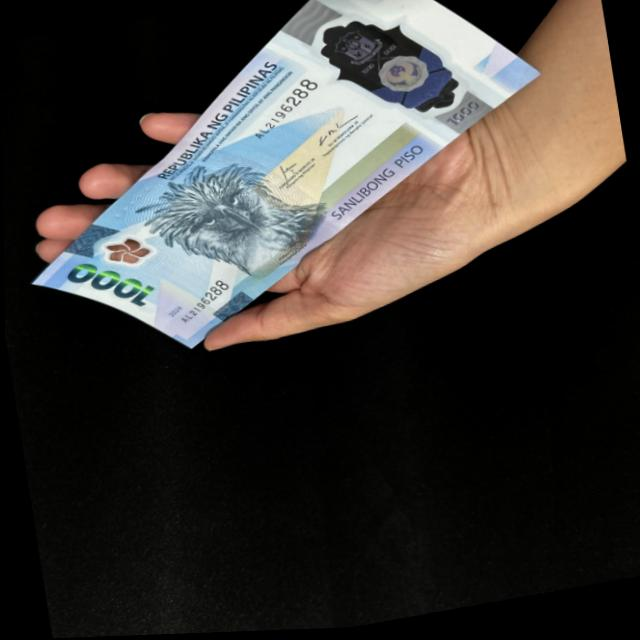clear_window: (305, 0, 470, 136)
eagle: (131, 148, 315, 304)
sampaguita: (97, 234, 152, 277)
serial_number: (235, 75, 330, 148), (175, 274, 244, 327)
